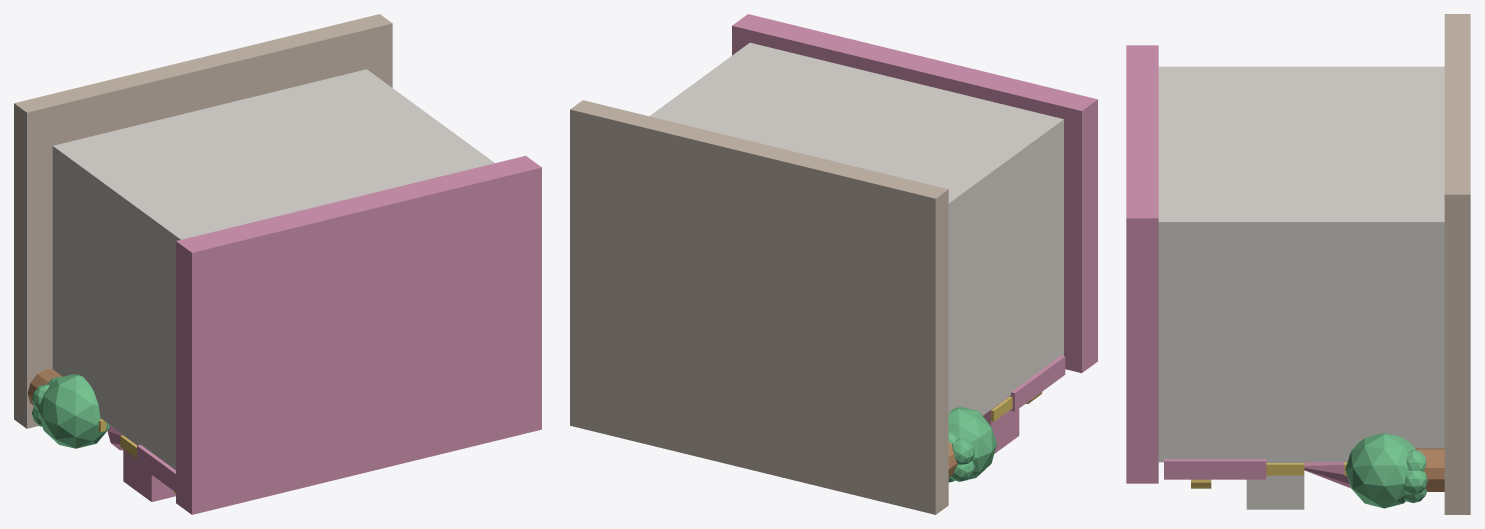
The model's file is fashion_lod1.glb.
The picture shows the model from 3 angles, left to right: view 1: azimuth 30°, elevation 25°; view 2: azimuth 150°, elevation 25°; view 3: azimuth 270°, elevation 25°; orthographic projection.
Visible parts, largest first — view 1: roof_2, walls_1, plinth_0, plant_20, awning_5, signboard_3; view 2: plinth_0, walls_1, roof_2, plant_20, signboard_3, awning_5; view 3: walls_1, roof_2, plinth_0, plant_22, signboard_3, awning_12, planter_21, detail_dress_58, detail_window_trim_5, detail_foliage_28.
Part boxes in pixels (x1=…): roof_2: x1=176, y1=155, x2=541, y2=514; walls_1: x1=52, y1=69, x2=494, y2=469; plinth_0: x1=14, y1=14, x2=392, y2=428; plant_20: x1=38, y1=374, x2=110, y2=448; awning_5: x1=123, y1=435, x2=175, y2=501; signboard_3: x1=137, y1=444, x2=175, y2=492; plinth_0: x1=570, y1=100, x2=948, y2=514; walls_1: x1=649, y1=42, x2=1063, y2=415; roof_2: x1=732, y1=14, x2=1097, y2=373; plant_20: x1=948, y1=407, x2=996, y2=481; signboard_3: x1=1009, y1=355, x2=1065, y2=411; awning_5: x1=983, y1=396, x2=1019, y2=453; walls_1: x1=1158, y1=66, x2=1444, y2=462; roof_2: x1=1126, y1=45, x2=1158, y2=483; plinth_0: x1=1444, y1=14, x2=1470, y2=514; plant_22: x1=1345, y1=433, x2=1415, y2=508; signboard_3: x1=1164, y1=459, x2=1266, y2=479; awning_12: x1=1246, y1=462, x2=1304, y2=509; planter_21: x1=1415, y1=448, x2=1444, y2=491; detail_dress_58: x1=1304, y1=462, x2=1350, y2=488; detail_window_trim_5: x1=1266, y1=463, x2=1304, y2=475; detail_foliage_28: x1=1404, y1=470, x2=1427, y2=495.
Bounding box in the file's own units: 4.94 × 3.93 × 3.7.
